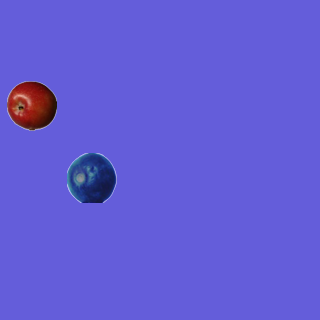Apple Braeburn: (6, 80, 56, 130)
Huckleberry: (66, 152, 116, 202)
